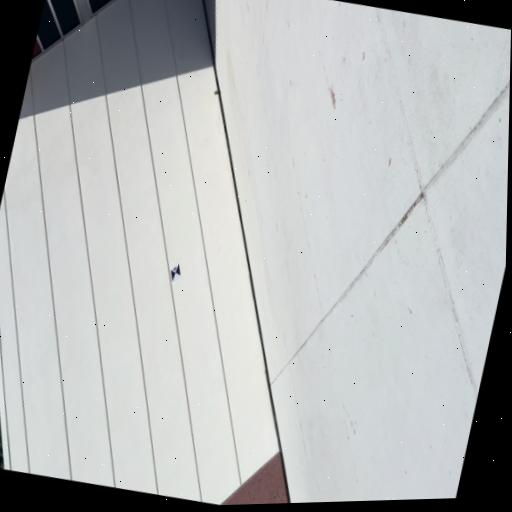target4: (171, 263, 181, 283)
